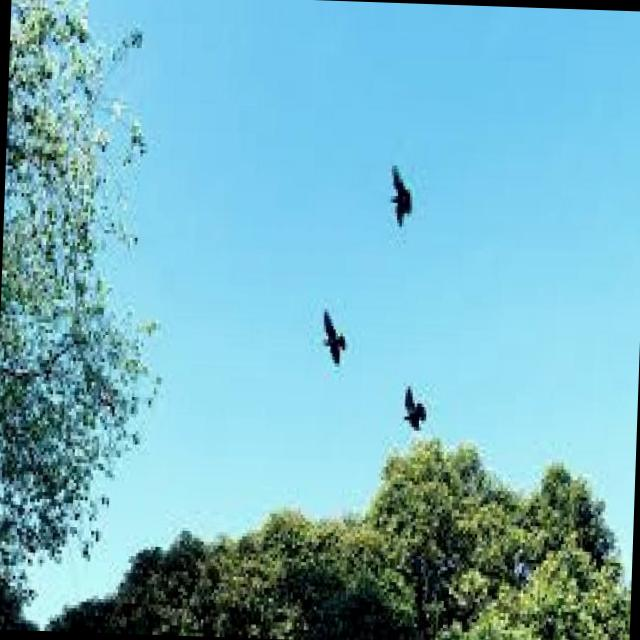bird: (376, 156, 419, 232), (392, 370, 434, 444), (311, 303, 353, 368)
